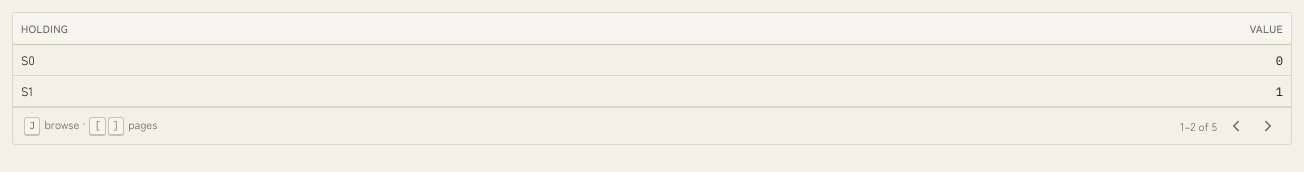
PortfolioTable › pages long lists with [ and ]
The width and height of the screenshot is (1304, 172).
expect the text "1–2 of 5" is shown: met, box left=1180, top=118, right=1217, bottom=134
Press ]
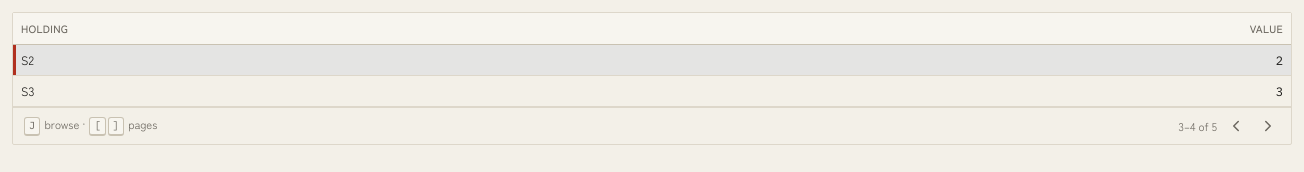
expect the text "3–4 of 5" is shown: met, box left=1179, top=118, right=1217, bottom=134
Click the button named "Next page" at (1268, 126), box left=1255, top=113, right=1281, bottom=139
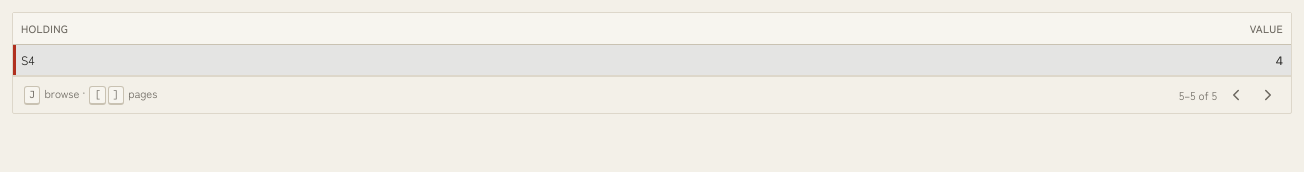
expect the text "5–5 of 5" is shown: met, box left=1179, top=87, right=1217, bottom=103
